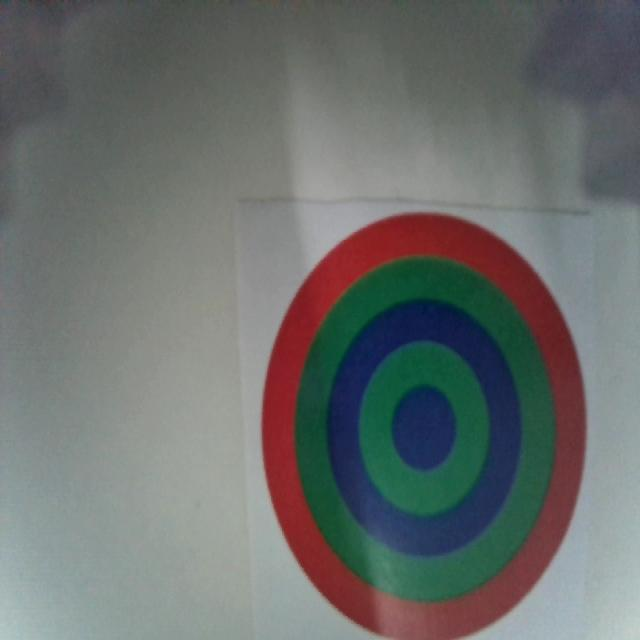cogn: (260, 211, 587, 636)
